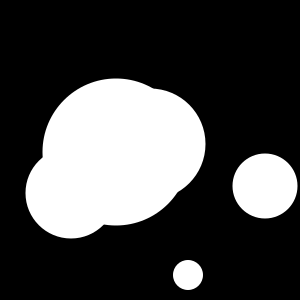rectangle: (42, 79, 189, 226), (94, 88, 206, 200), (25, 148, 116, 238), (232, 154, 298, 218), (173, 260, 203, 290)
